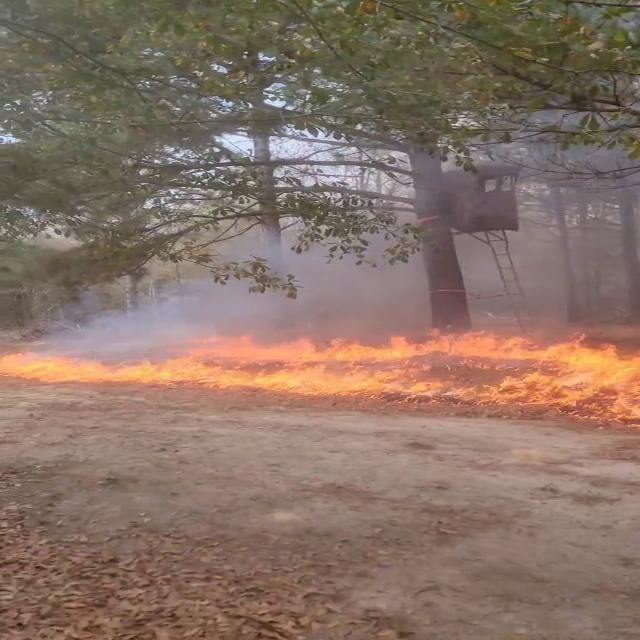Fire: (6, 322, 638, 402)
Smoke: (47, 210, 640, 340)
